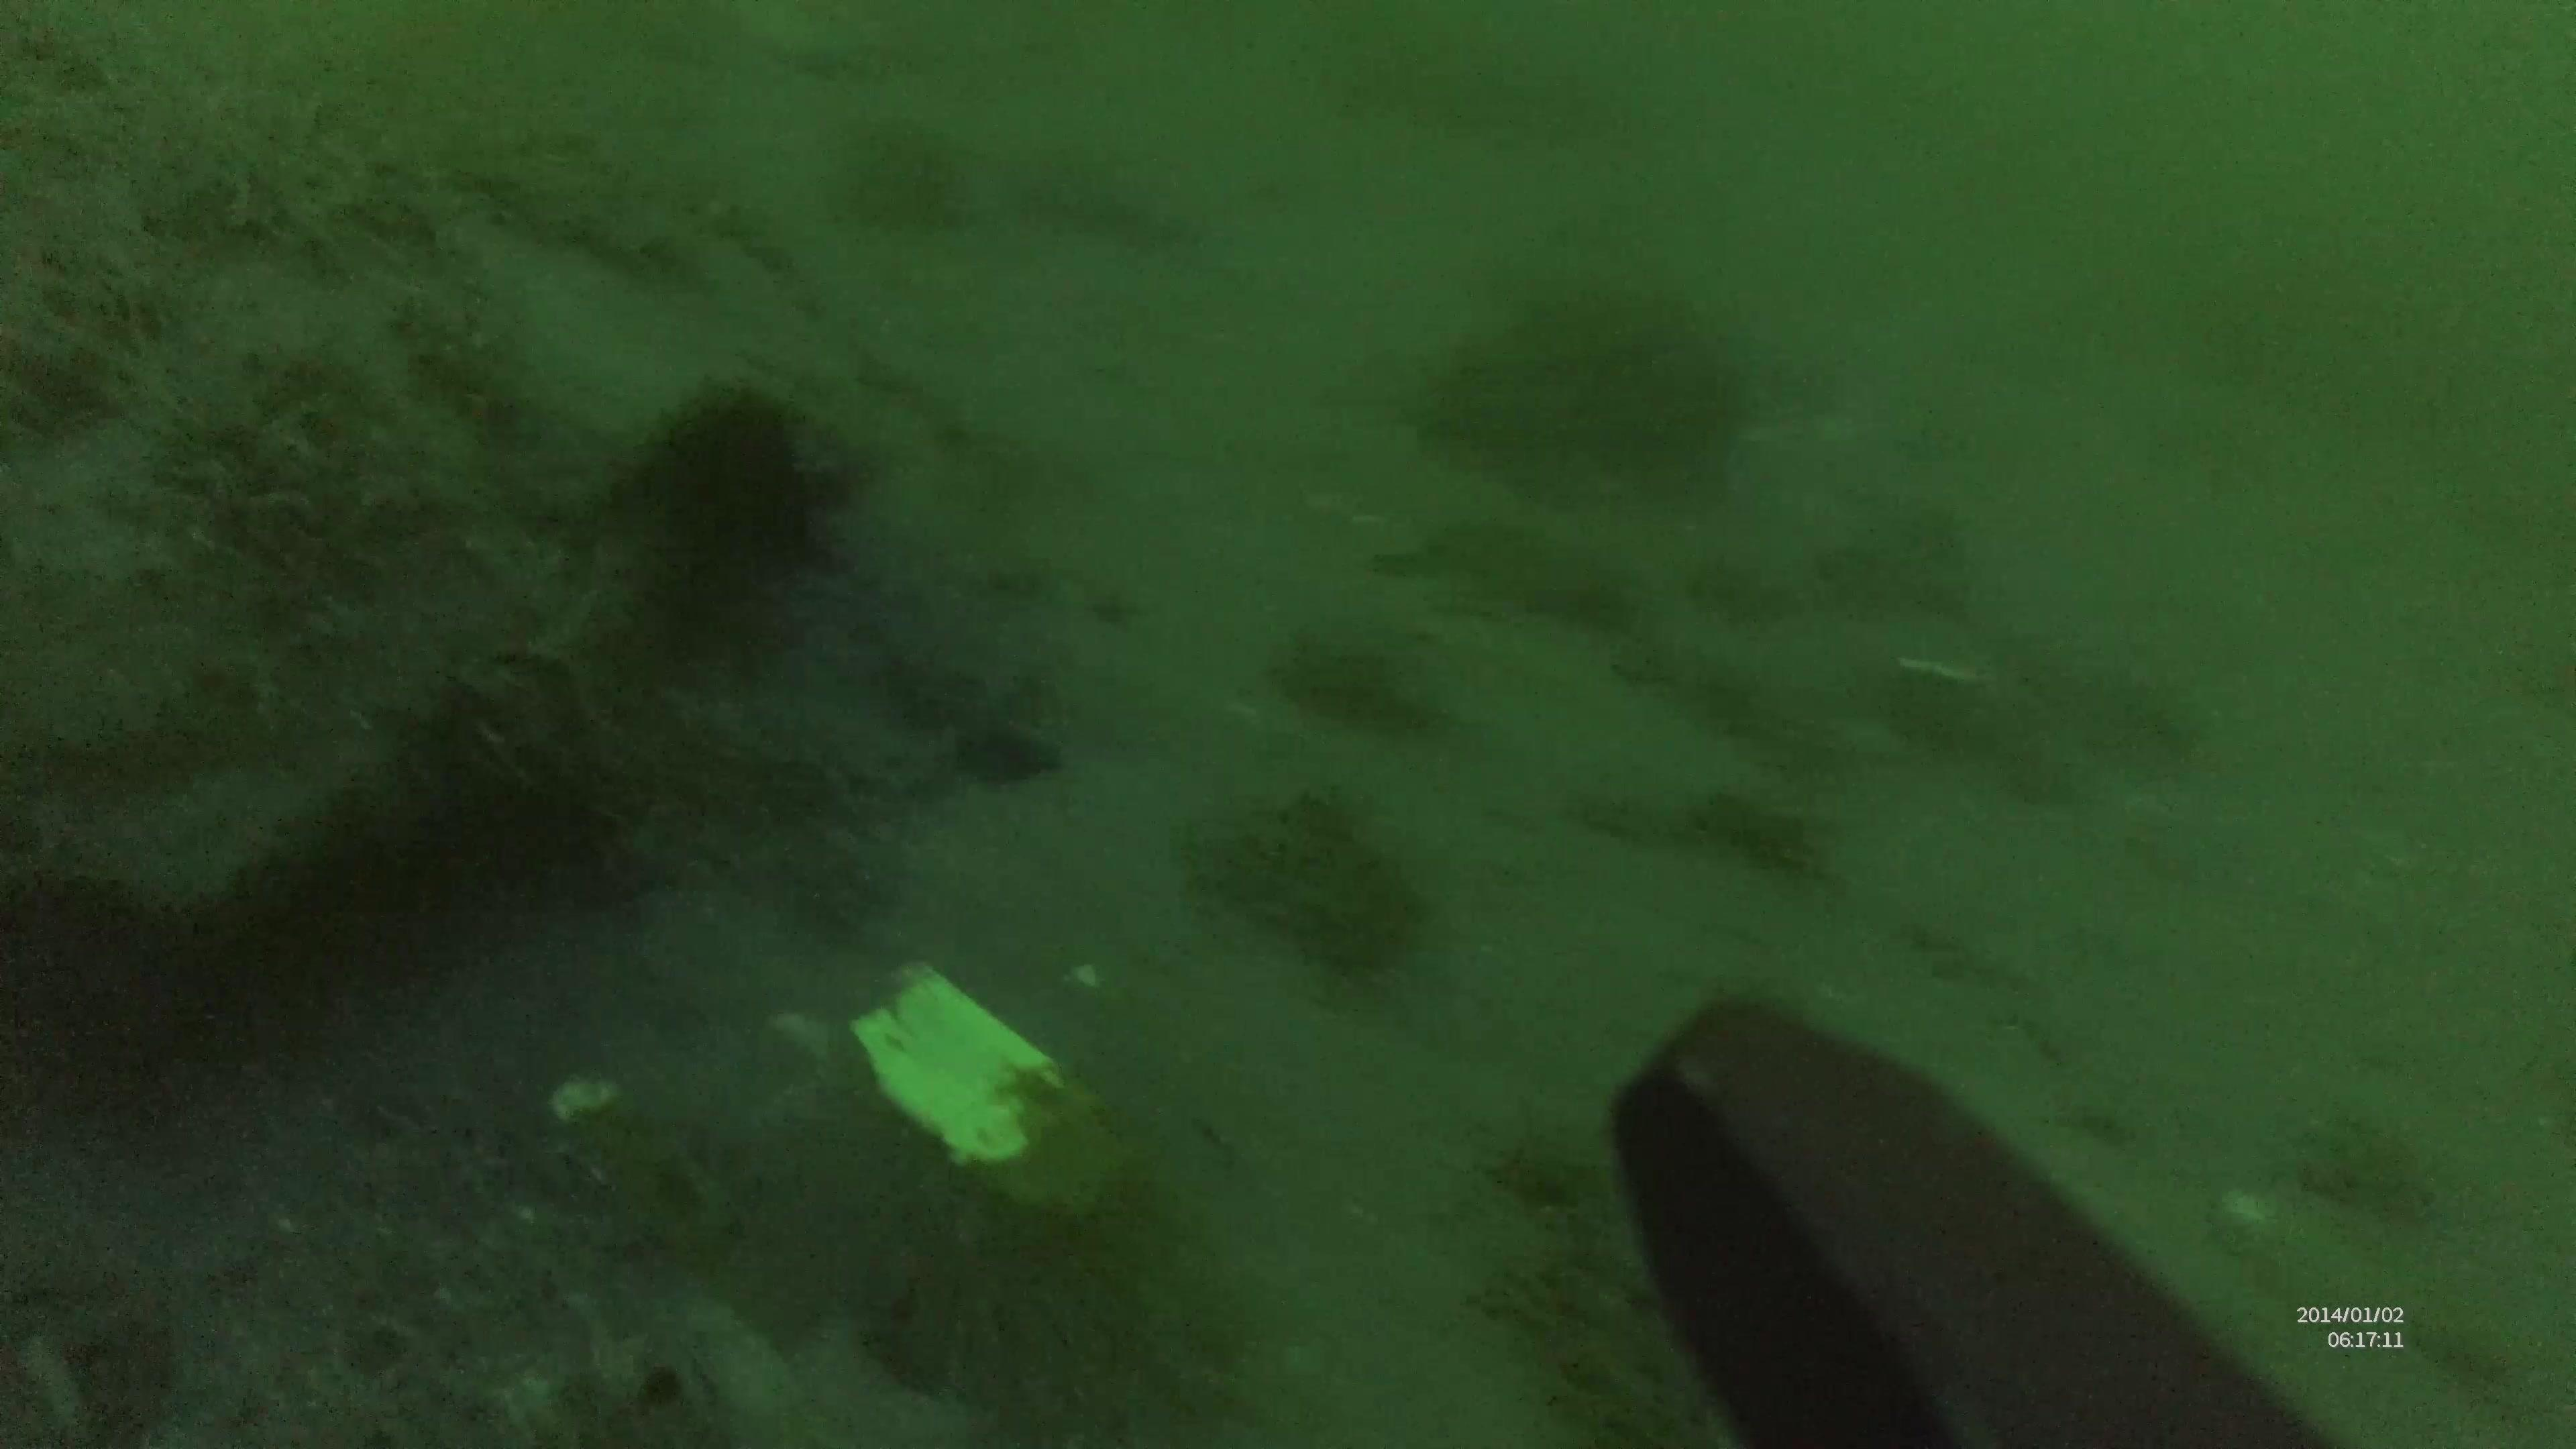echinus: (635, 387, 807, 543)
